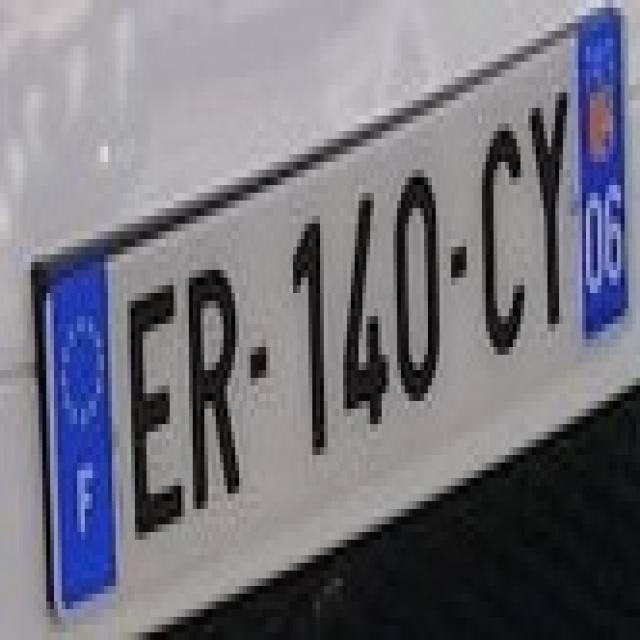EU: (48, 3, 631, 625)
France: (50, 255, 117, 614)
